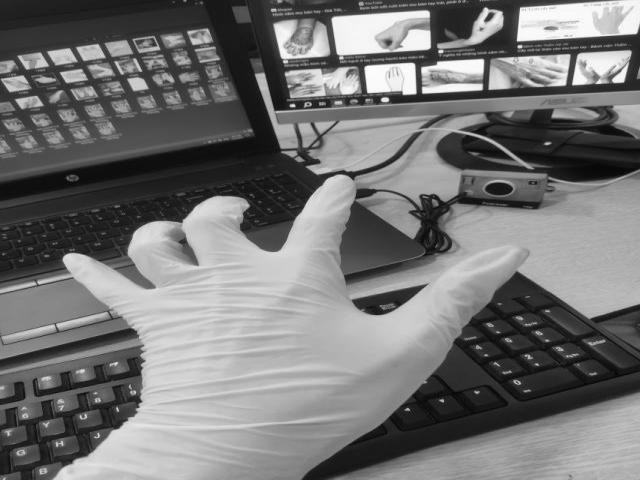gloved: (66, 177, 524, 477)
